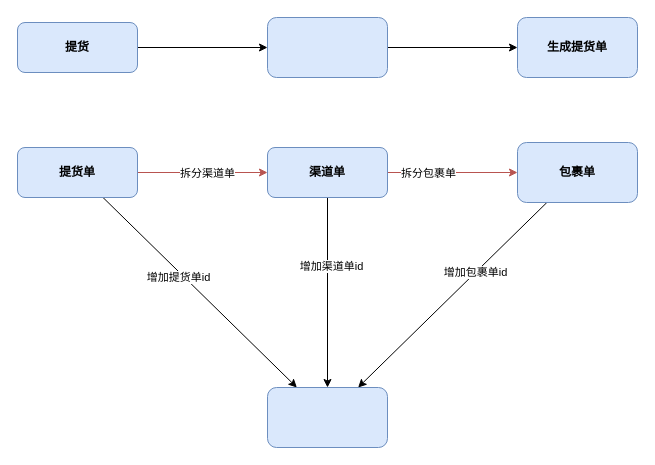
Image size: 655x465. Some labels were removed from this diagram. Each missing label, with the centre of its shape:
"关联提货赠品" belongs at (327,417).
"计算不同渠道的运费" belongs at (327,47).
